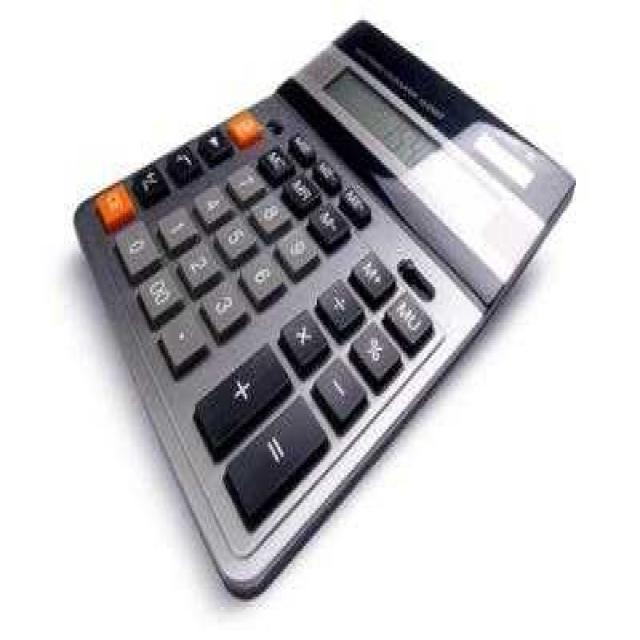Calculator: (72, 16, 576, 600)
